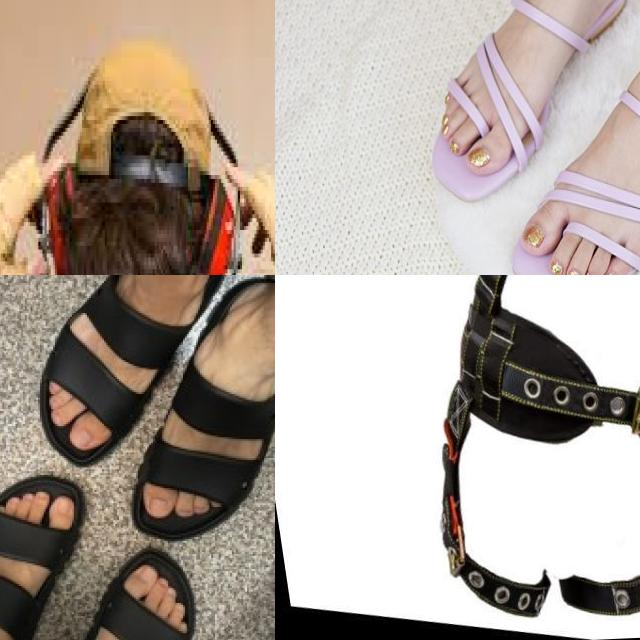Ear-protection: (42, 67, 254, 275)
Harness: (443, 275, 640, 618), (560, 576, 640, 616)
Sandals: (392, 0, 640, 275), (131, 306, 275, 539), (39, 275, 158, 465), (38, 548, 197, 640)
